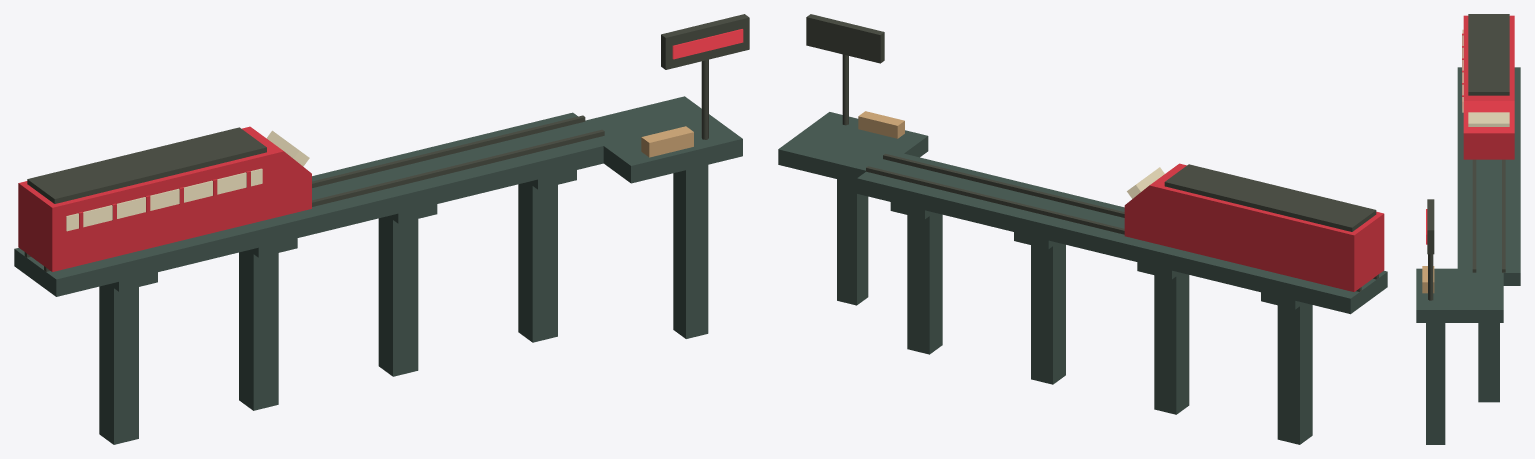
Rendered from elevated-rail.glb.
3 renders of one model, left to right at view 1: azimuth 30°, elevation 25°; view 2: azimuth 150°, elevation 25°; view 3: azimuth 270°, elevation 25°, orthographic. The views are drawn at different scales.
Visible parts, largest first — view 1: ElevatedRail, toy_pull; view 2: ElevatedRail, toy_pull; view 3: ElevatedRail, toy_pull.
Part boxes in pixels (x1=…): ElevatedRail: x1=14, y1=14, x2=749, y2=444; toy_pull: x1=18, y1=126, x2=311, y2=271; ElevatedRail: x1=778, y1=14, x2=1387, y2=444; toy_pull: x1=1124, y1=163, x2=1384, y2=291; ElevatedRail: x1=1416, y1=67, x2=1520, y2=444; toy_pull: x1=1462, y1=14, x2=1514, y2=159.
Bounding box in the file's own units: 24.1 × 10.45 × 4.3.
